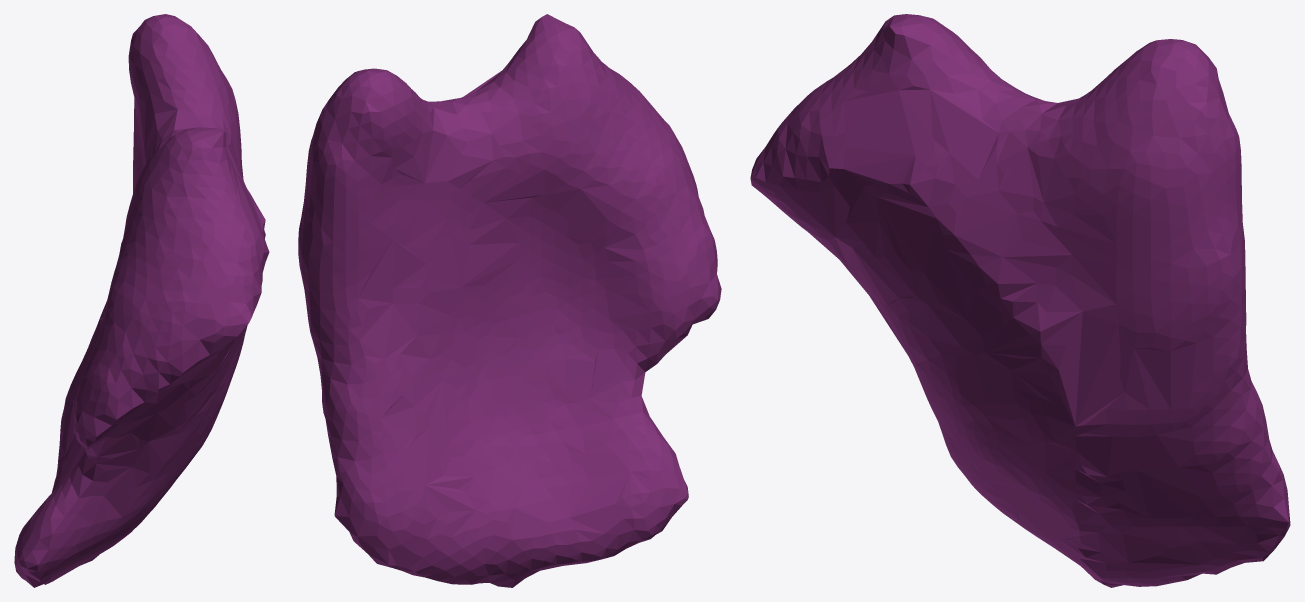
The model's file is Model_453_RH__Deep_gray_layer_of_the_superior_colliculus_(DpG).obj.
3 renders of one model, left to right at view 1: azimuth 30°, elevation 25°; view 2: azimuth 150°, elevation 25°; view 3: azimuth 270°, elevation 25°, orthographic. The views are drawn at different scales.
Bounding box in the file's own units: 1.85 × 3.07 × 2.46.
